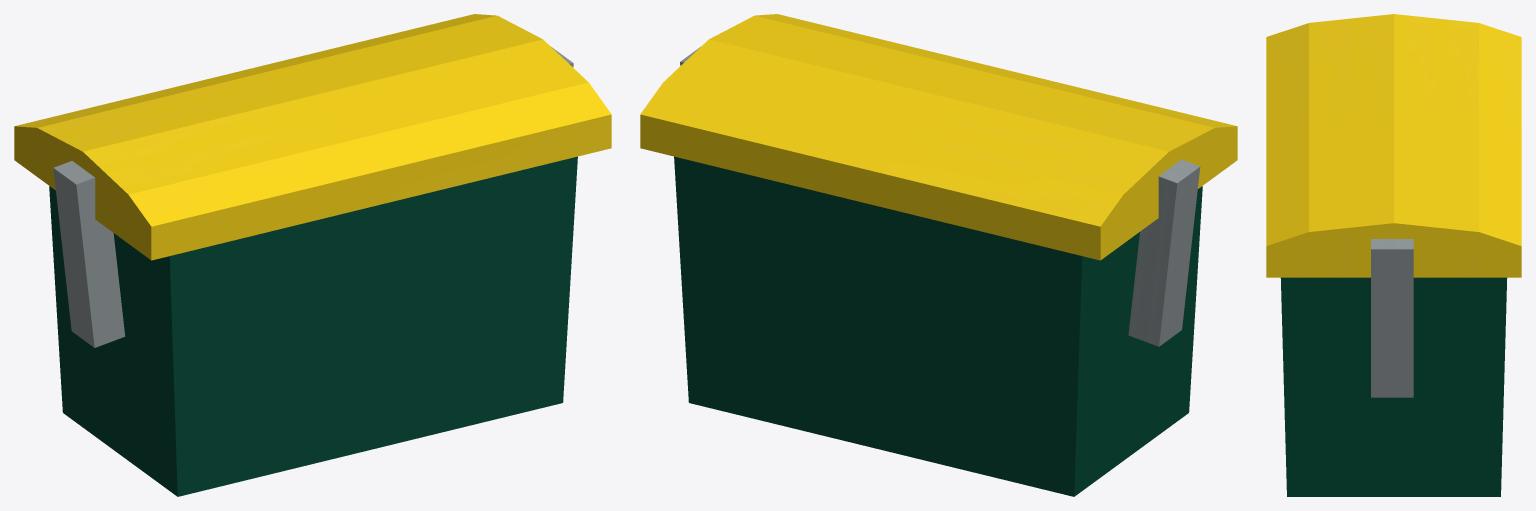
The model's file is bin_yellow.fbx.
The picture shows the model from 3 angles, left to right: view 1: azimuth 30°, elevation 25°; view 2: azimuth 150°, elevation 25°; view 3: azimuth 270°, elevation 25°; orthographic projection. The views are drawn at different scales.
Parts seen in each view (by area): view 1: Cube.002; view 2: Cube.002; view 3: Cube.002.
Part boxes in pixels (x1,y1,x2,y2): Cube.002: (14,14,611,496); Cube.002: (640,14,1237,496); Cube.002: (1266,14,1521,496).
Bounding box in the file's own units: 250 × 150 × 119.
